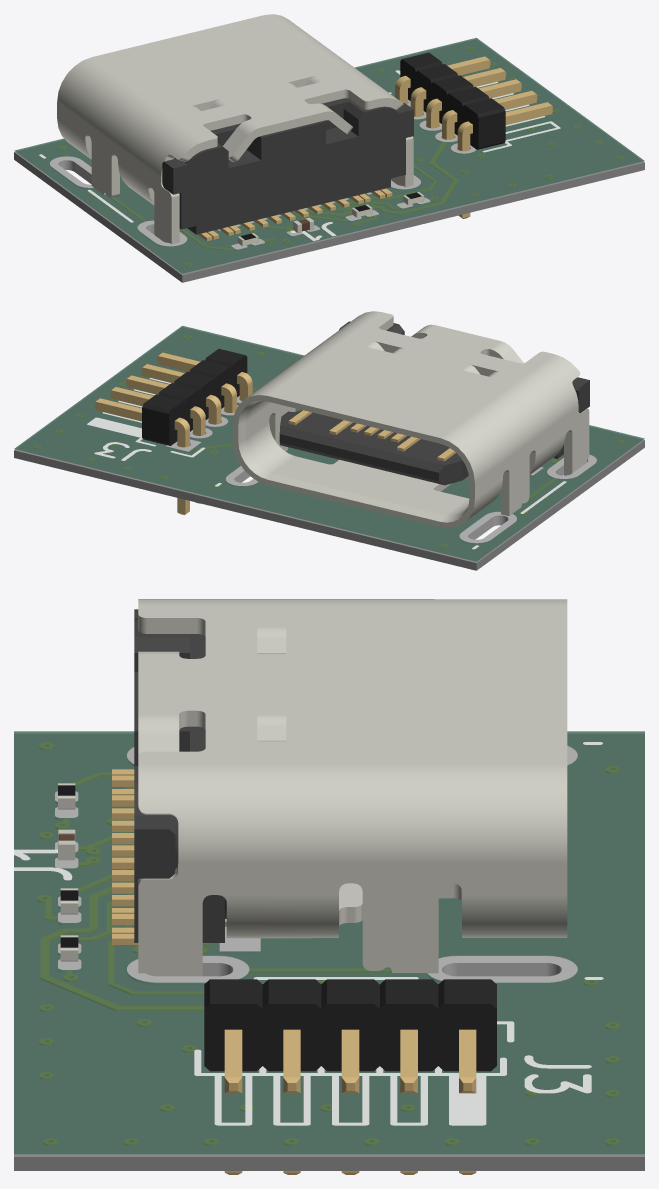
The model's file is Phone-part2.glb.
The picture shows the model from 3 angles, top to bottom: view 1: azimuth 30°, elevation 25°; view 2: azimuth 150°, elevation 25°; view 3: azimuth 270°, elevation 25°; orthographic projection. The views are drawn at different scales.
Visible parts, largest first — view 1: J1, =>[0:1:1:12], =>[0:1:1:10], J3, =>[0:1:1:7], =>[0:1:1:6], =>[0:1:1:9]; view 2: J1, =>[0:1:1:12], =>[0:1:1:10], J3, =>[0:1:1:7], =>[0:1:1:9]; view 3: J1, =>[0:1:1:10], =>[0:1:1:12], J3, =>[0:1:1:9], =>[0:1:1:7], =>[0:1:1:6].
Part boxes in pixels (x1,y1,x2,y2): J1: (57,14,413,244); =>[0:1:1:12]: (14,40,644,282); =>[0:1:1:10]: (14,38,644,273); J3: (395,52,552,218); =>[0:1:1:7]: (50,99,476,250); =>[0:1:1:6]: (60,47,623,266); =>[0:1:1:9]: (39,70,560,240); J1: (233,311,589,528); =>[0:1:1:12]: (14,328,644,570); =>[0:1:1:10]: (14,325,644,561); J3: (94,348,252,515); =>[0:1:1:7]: (166,396,596,543); =>[0:1:1:9]: (87,378,566,549); J1: (112,599,567,976); =>[0:1:1:10]: (14,731,644,1154); =>[0:1:1:12]: (14,734,644,1170); J3: (204,979,496,1174); =>[0:1:1:9]: (14,742,603,1125); =>[0:1:1:7]: (55,746,577,984); =>[0:1:1:6]: (37,743,619,1145).
Size of what is drawn, in the model's own units: 0.0171 by 0.00581 by 0.0108.
